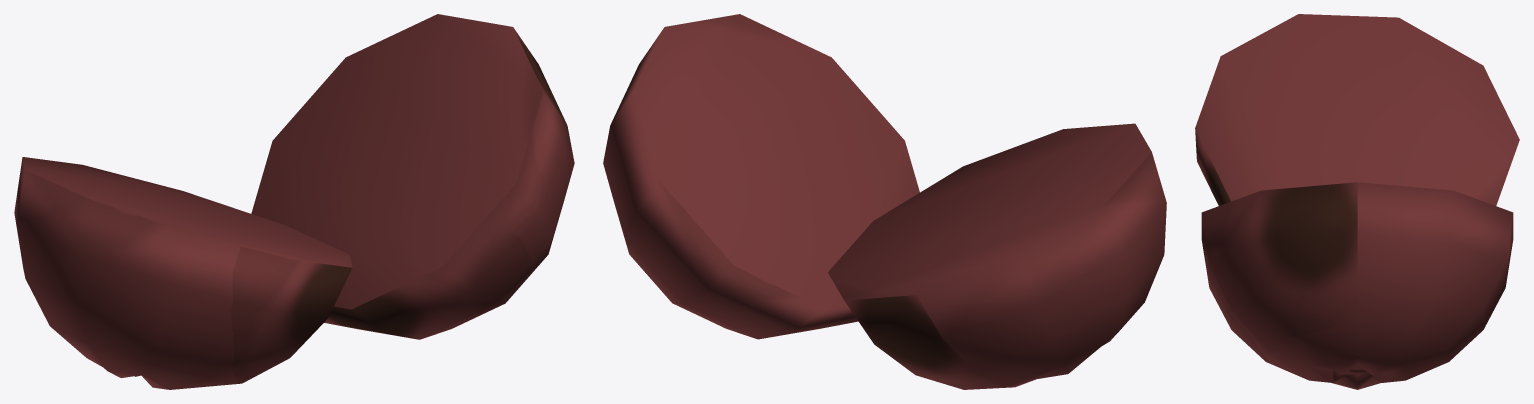
The model's file is borojopartidomesh.fbx.
3 views of the same model, side by side, from view 1: azimuth 30°, elevation 25°; view 2: azimuth 150°, elevation 25°; view 3: azimuth 270°, elevation 25° (orthographic). The views are drawn at different scales.
Parts seen in each view (by area): view 1: pSphere7; view 2: pSphere7; view 3: pSphere7.
Boxes of the visible parts, box(x1,y1,x2,y2) form: pSphere7: box(14, 14, 574, 389); pSphere7: box(603, 14, 1166, 389); pSphere7: box(1195, 14, 1519, 389).
Bounding box in the file's own units: 331 × 165 × 198.
